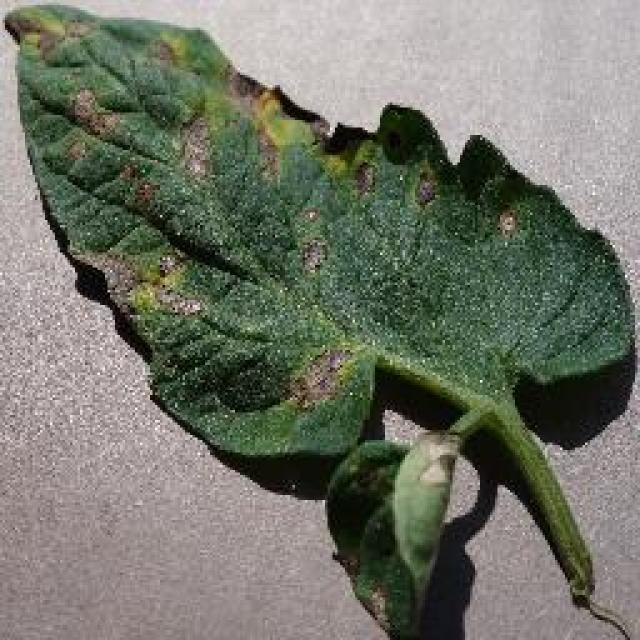Tomato___Early_blight: (0, 0, 638, 638)
